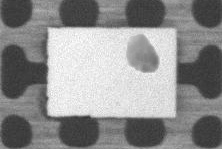DIE_INK: (126, 36, 160, 77)
